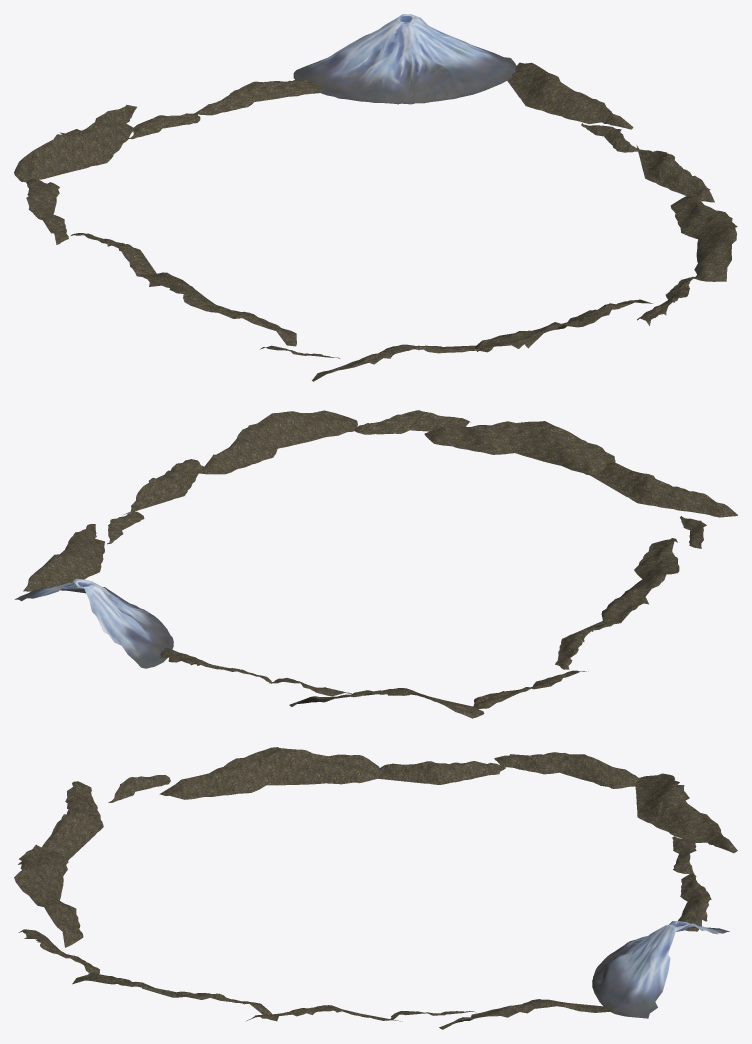
Rendered from tokyo_track_terrain.dae.
The picture shows the model from 3 angles, top to bottom: view 1: azimuth 30°, elevation 25°; view 2: azimuth 150°, elevation 25°; view 3: azimuth 270°, elevation 25°; orthographic projection. The views are drawn at different scales.
Parts seen in each view (by area): view 1: terrain, terrain_mt_fuji; view 2: terrain, terrain_mt_fuji; view 3: terrain, terrain_mt_fuji.
Part boxes in pixels (x1,y1,x2,y2): terrain: [14, 62, 737, 381]; terrain_mt_fuji: [293, 14, 516, 104]; terrain: [23, 410, 737, 718]; terrain_mt_fuji: [14, 578, 173, 668]; terrain: [14, 747, 737, 1029]; terrain_mt_fuji: [592, 921, 729, 1018].
Bounding box in the file's own units: 3987 × 371 × 4461.
2 materials, 2 textured.
